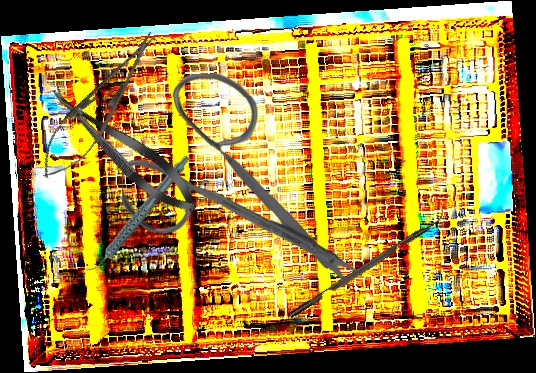Chopper: (283, 205, 452, 319)
Handpiece: (66, 153, 210, 275)
Iris Scissors: (120, 70, 362, 295)
Micro Scissor: (41, 76, 207, 224)
Needle Holder: (28, 21, 171, 191)
